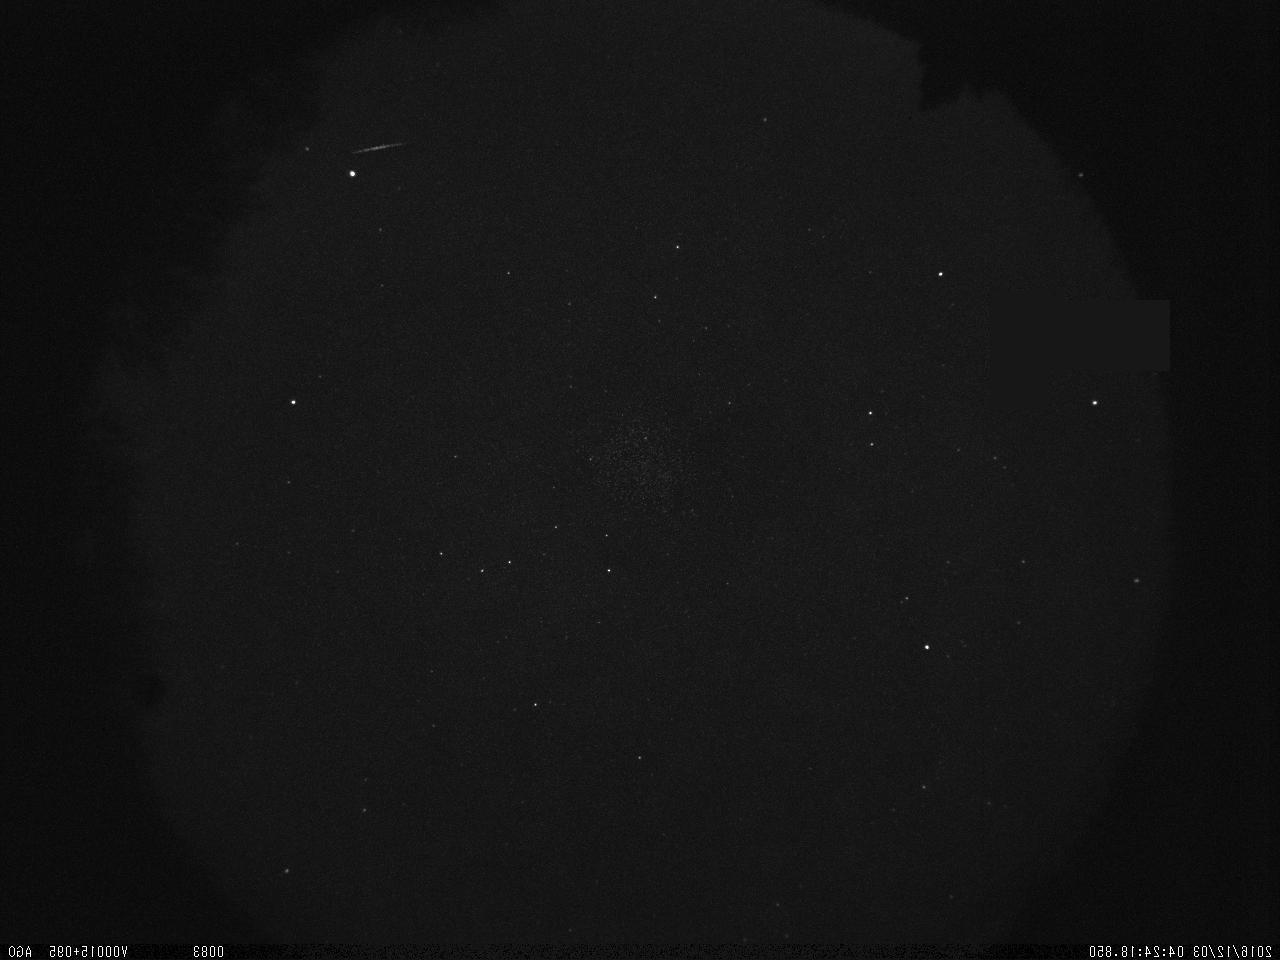meteor: (341, 130, 417, 163)
